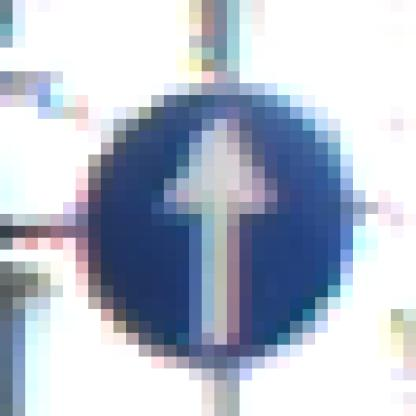AheadOnly: (64, 72, 354, 358)
